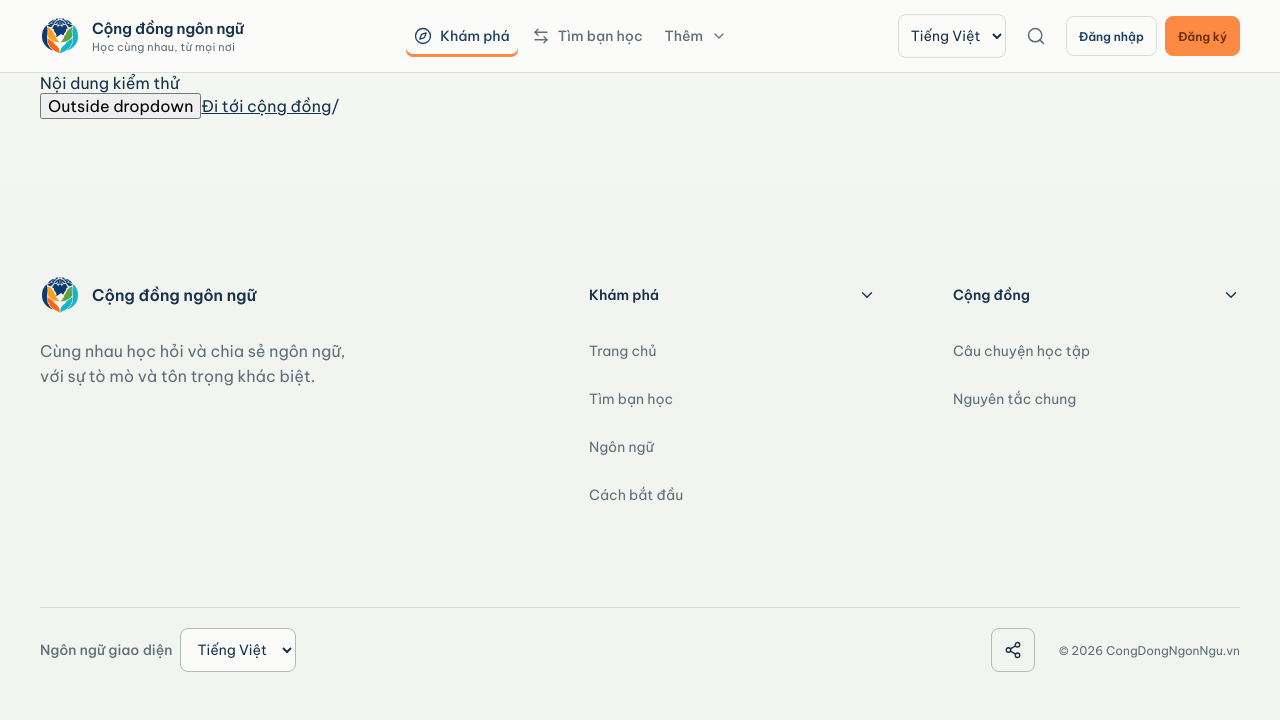
Scenario: AppShell › closes More when another component changes the route
Click the button "Thêm" at coordinates (696, 36), box 656,14 -> 736,58
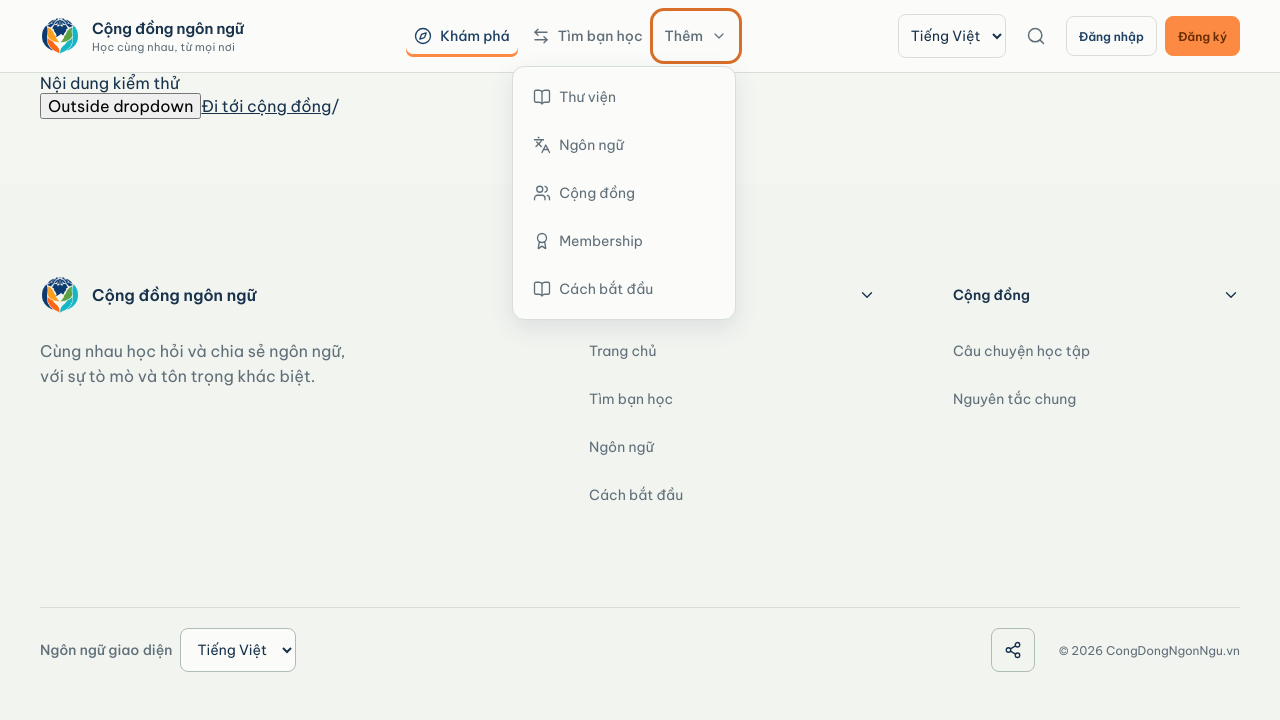
Click the link "Đi tới cộng đồng" at coordinates (266, 106), box 201,96 -> 331,116
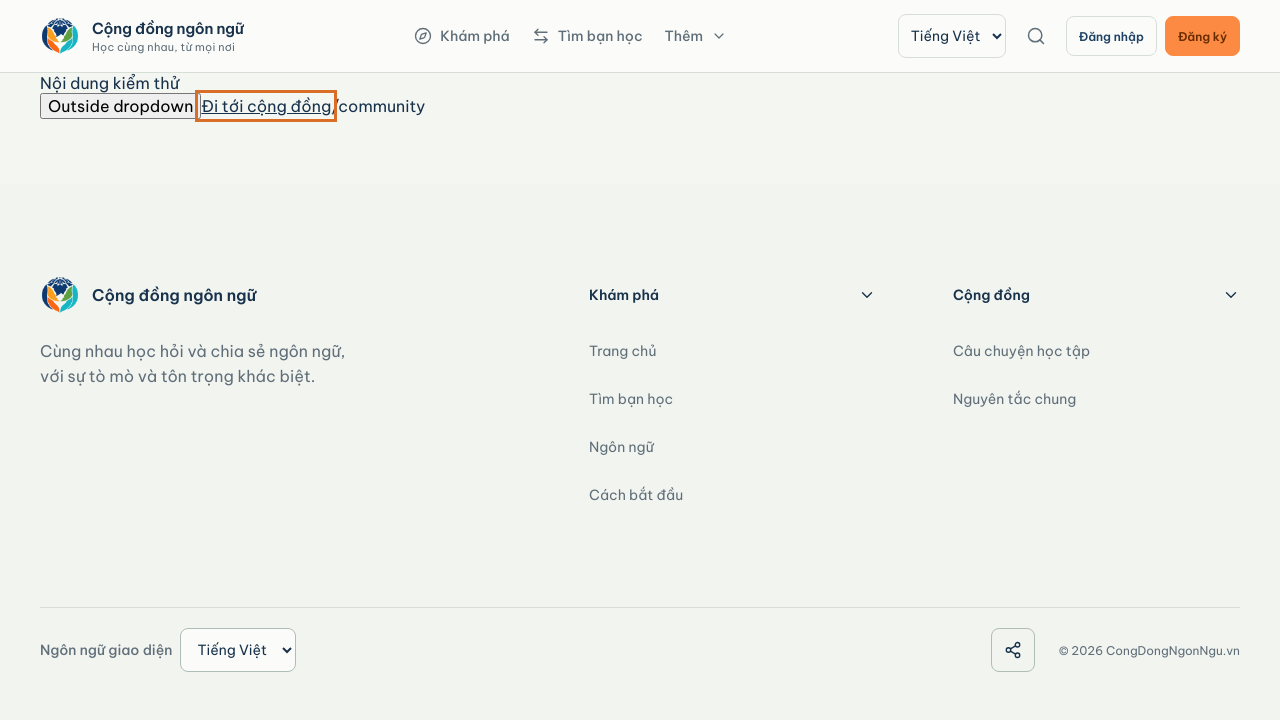
Now the text with test id "location" reads "/community", box 331,96 -> 425,116
